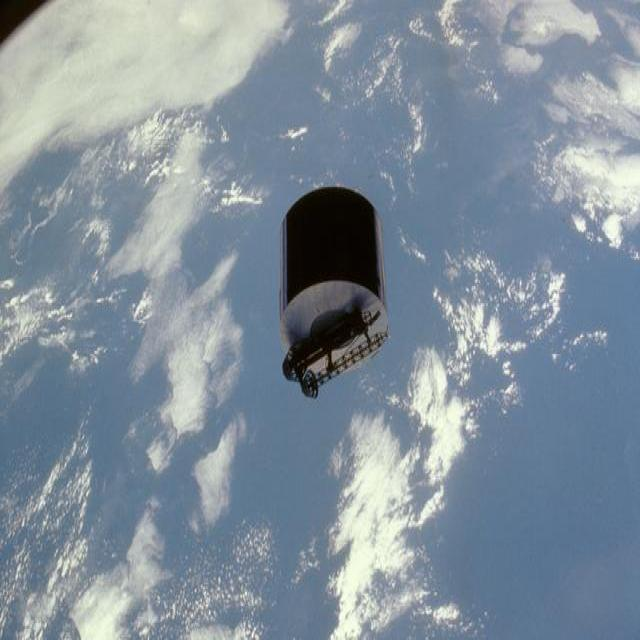satellite: (280, 189, 389, 397)
